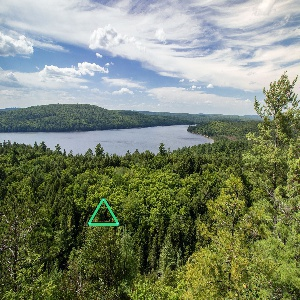triangle: (85, 195, 122, 229)
